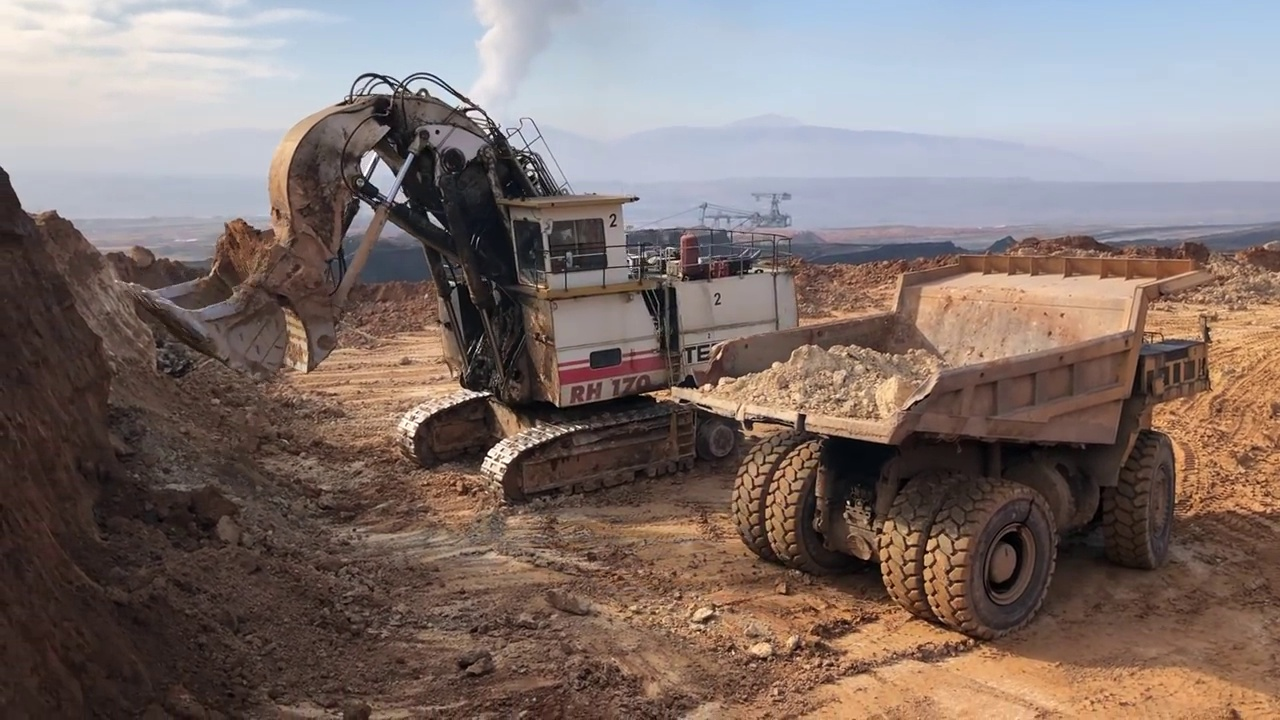dumper: (643, 250, 1211, 639)
excavator: (117, 69, 803, 507)
